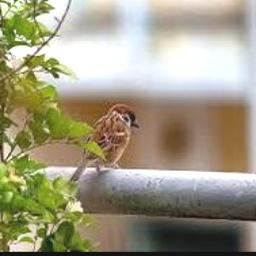Sparrow: (69, 103, 138, 181)
